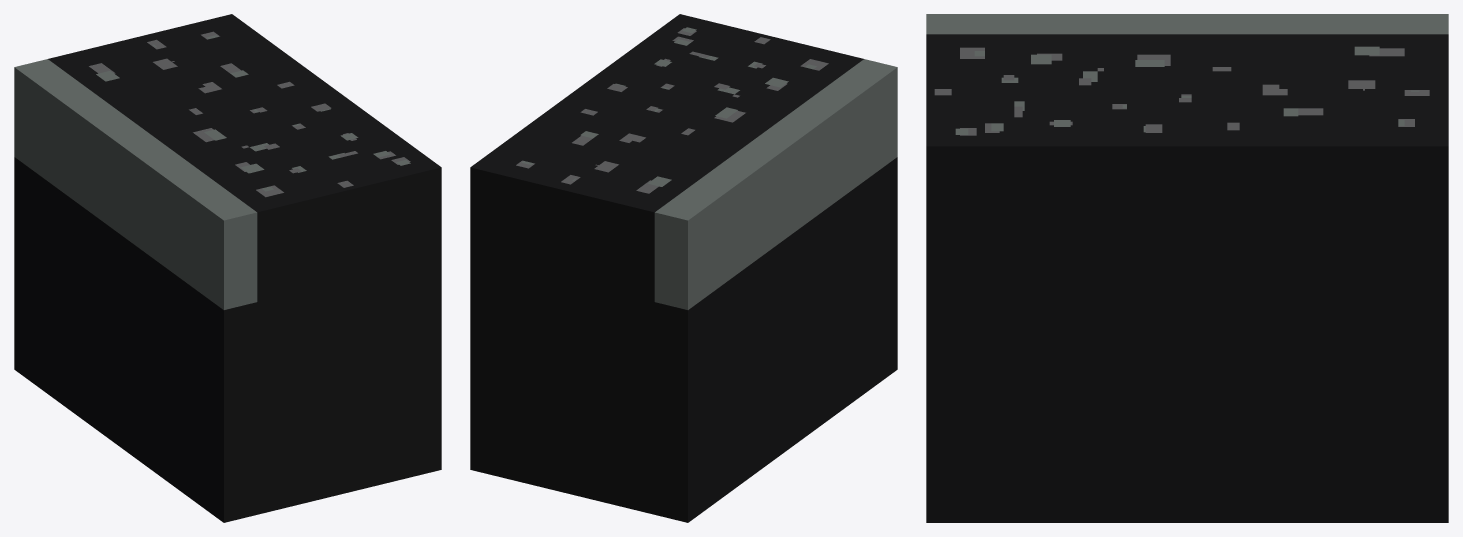
The model's file is Road.obj.
The picture shows the model from 3 angles, left to right: view 1: azimuth 30°, elevation 25°; view 2: azimuth 150°, elevation 25°; view 3: azimuth 270°, elevation 25°; orthographic projection. The views are drawn at different scales.
Bounding box in the file's own units: 15 × 19.9 × 25.
Materials: 1 (1 with a texture image).
